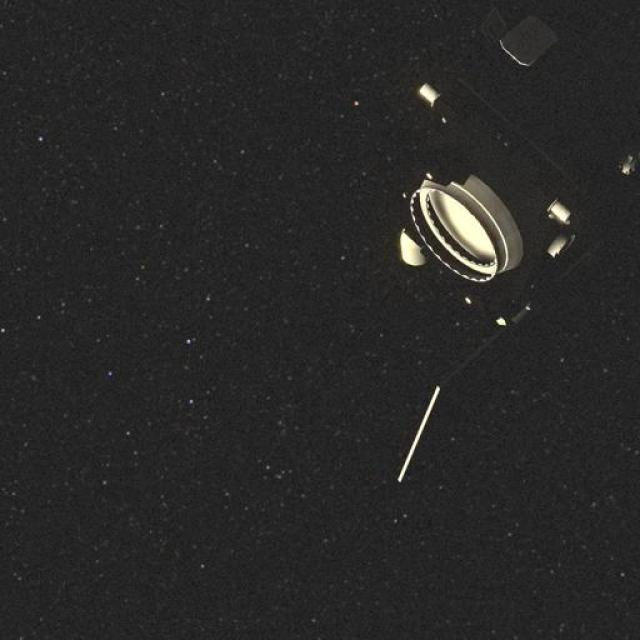proba_3_csc: (318, 0, 640, 499)
